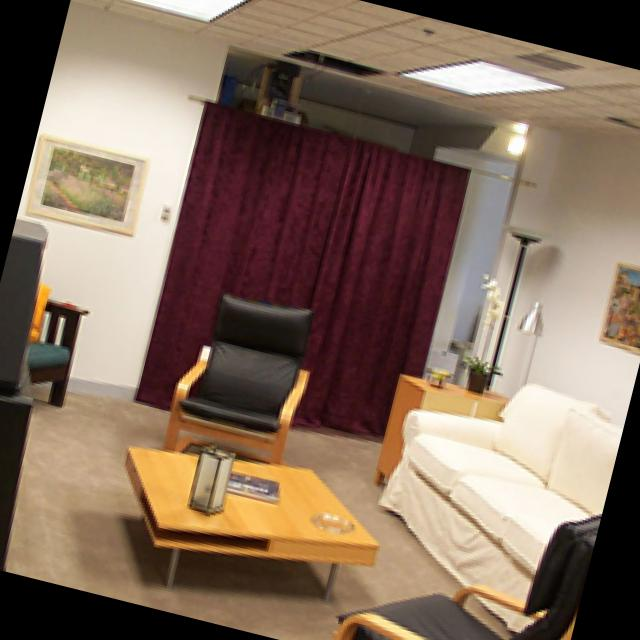air vent: (523, 46, 585, 71)
armchair crop: (337, 513, 602, 640), (164, 292, 315, 461), (30, 277, 94, 401)
ashtray: (313, 507, 360, 533)
ceiling lamps: (402, 56, 569, 94), (138, 0, 248, 22)
curtain crop: (136, 99, 474, 436)
decoration -X: (432, 364, 455, 386)
lamp crop: (487, 223, 553, 387), (189, 441, 238, 512), (520, 299, 548, 388), (514, 131, 531, 154)
magazine holder: (229, 469, 283, 501)
painting crop: (28, 133, 154, 233), (601, 259, 640, 351)
plant -x: (485, 270, 506, 350), (463, 353, 503, 393)
small table part: (127, 443, 383, 599), (375, 373, 511, 487)
sofa bed: (383, 381, 624, 640)
television: (0, 387, 36, 569)
television cabinet: (0, 217, 50, 389)
